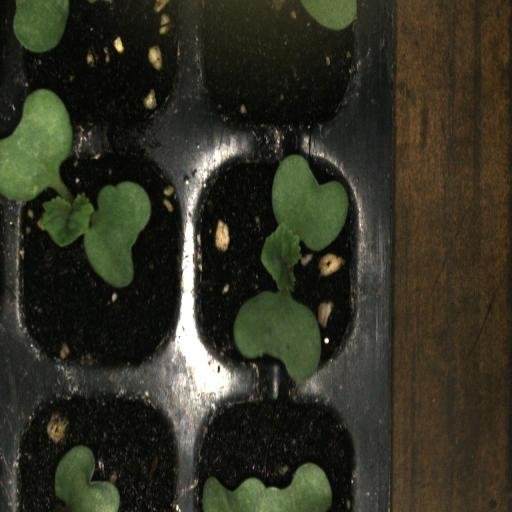Folha: (202, 462, 332, 512), (55, 445, 121, 512), (298, 0, 392, 36), (13, 0, 69, 53)
Germinacao: (188, 142, 372, 391), (10, 140, 188, 382)
